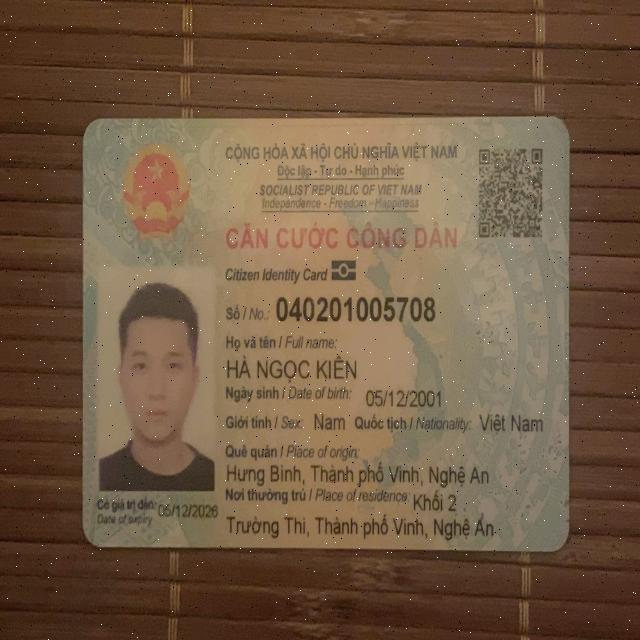current_place: (227, 509, 497, 544), (411, 487, 458, 516)
dob: (364, 385, 445, 413)
expire_date: (156, 495, 221, 521)
gender: (312, 407, 348, 435)
id: (273, 294, 437, 322)
name: (224, 350, 359, 384)
nationality: (474, 408, 544, 438)
origin_place: (225, 458, 490, 487)
